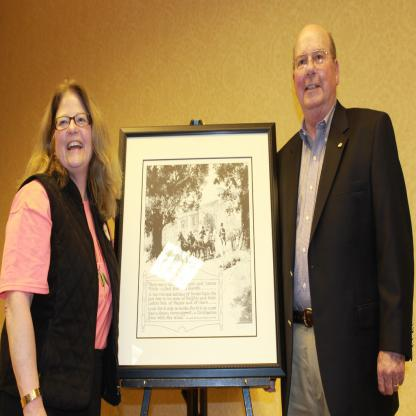Picture-frame: (121, 123, 287, 380)
